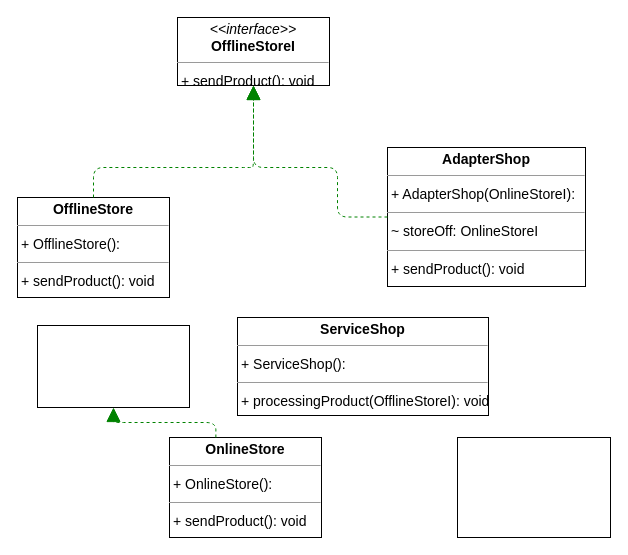
Image size: 628x555. Some labels were removed from this diagram. Each missing label, with the box of its shape:
<<interface>> OnlineStoreI + sendProduct(): void: (36, 324, 190, 408)
Main + Main(): + main(String[]): void: (456, 436, 610, 538)
